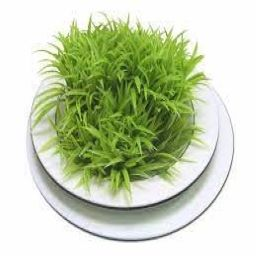grass: (30, 13, 207, 201)
